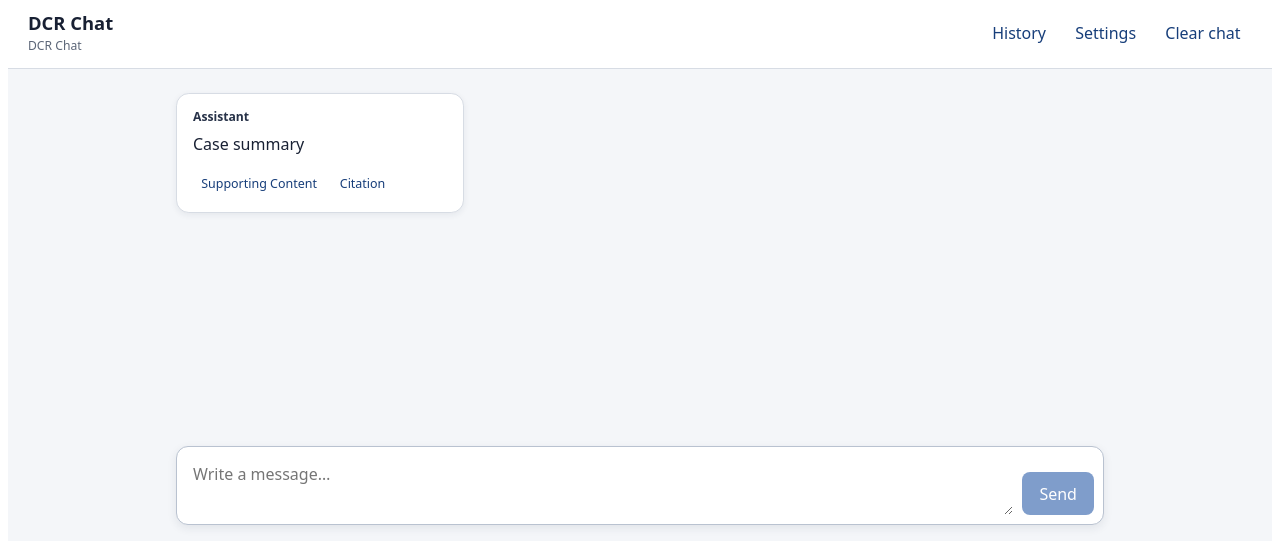
ChatApp › opens both analysis views for a citation-free tool result
Click the button "Supporting Content" at (259, 184), box [193,169,325,198]
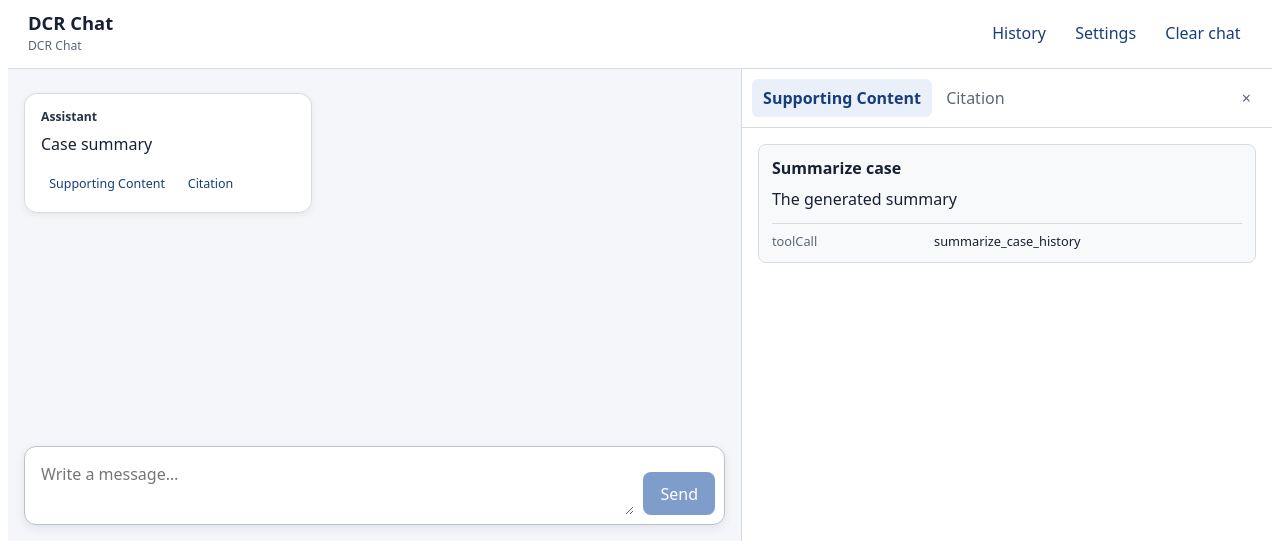
Check: the panel shows "The generated summary", box [772,188,957,210]
Click the button "Citation" at (211, 184), box [180,169,242,198]
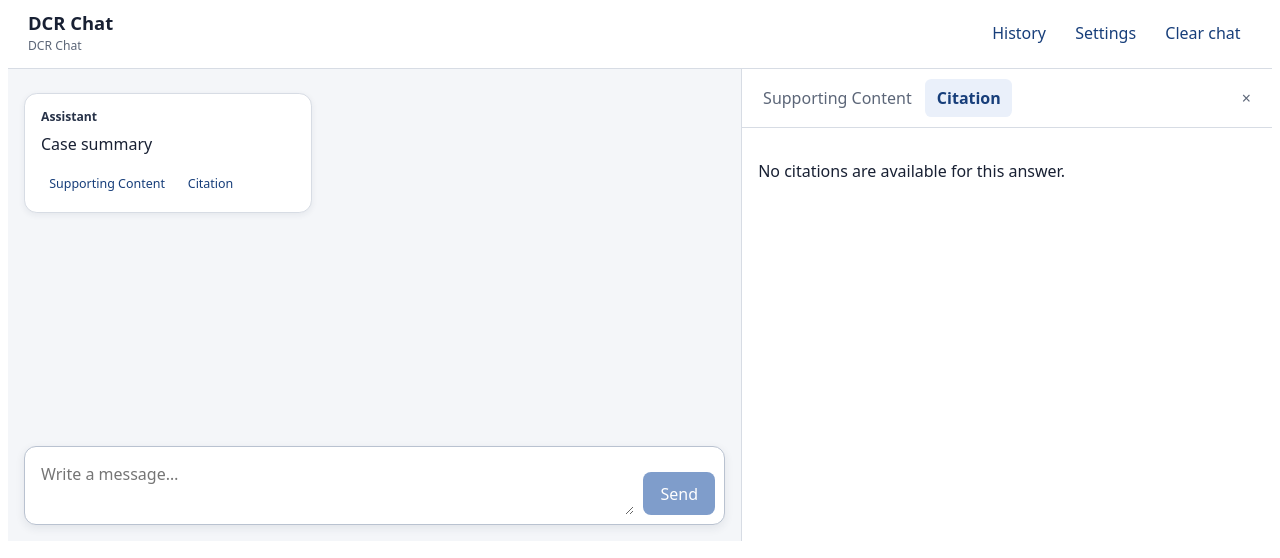
Check: the panel reads "No citations are available for this answer.", box [758,160,1065,182]
